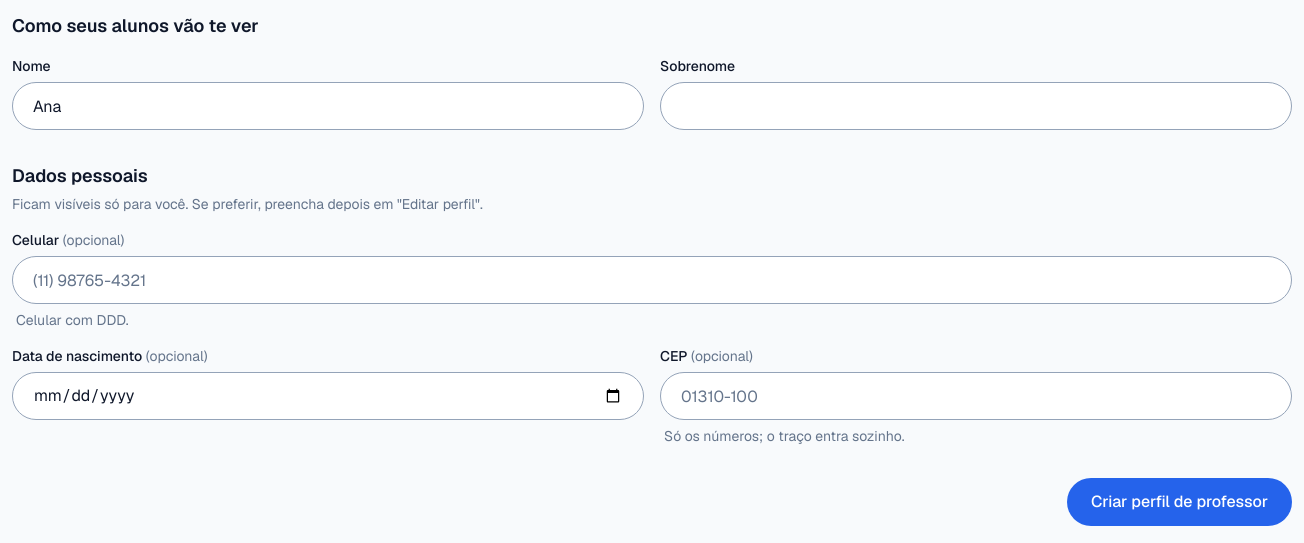
Test: ProfileForm › masks phone and CEP and shows the address found
The image size is (1304, 543).
Type "11987654321" into the field labelled "Celular (opcional)". click: coordinates (652, 280)
box: x1=12 y1=256 x2=1292 y2=304
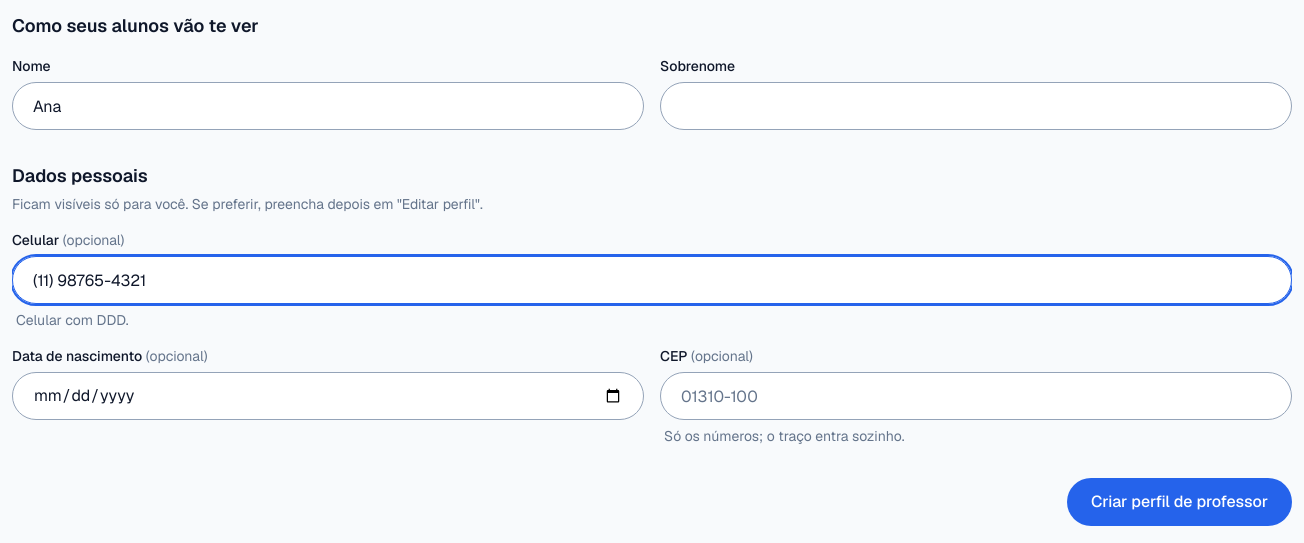
Type "01310100" into the field labelled "CEP (opcional)". click: coordinates (976, 396)
box: x1=660 y1=372 x2=1292 y2=420
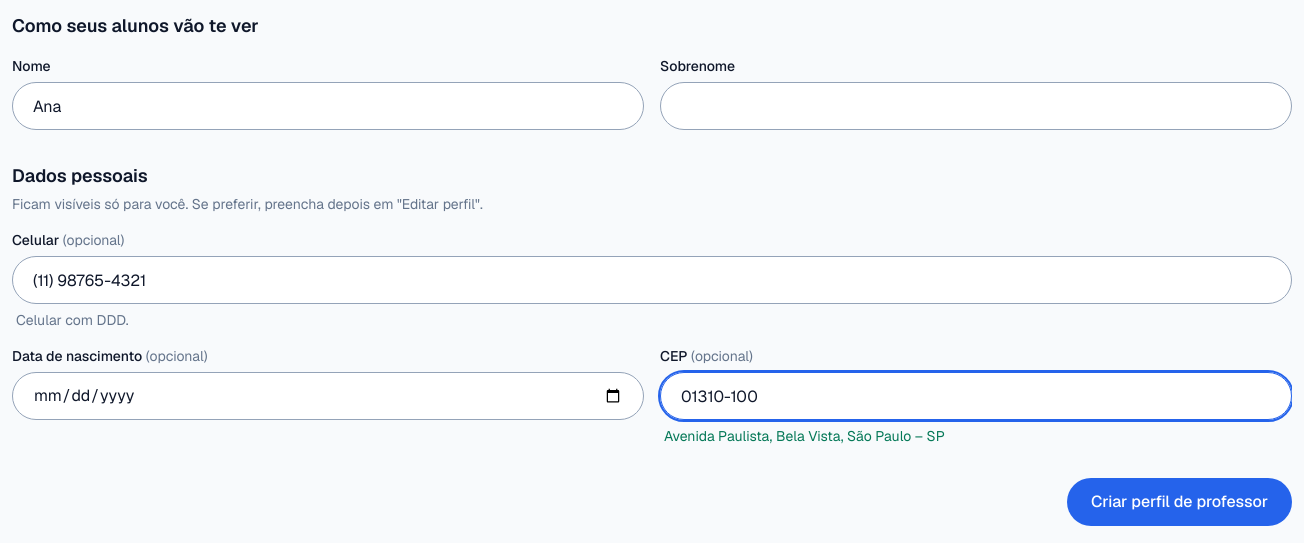
Check: the field labelled "Celular (opcional)" holds "(11) 98765-4321", box x1=12 y1=256 x2=1292 y2=304
Check: the field labelled "CEP (opcional)" holds "01310-100", box x1=660 y1=372 x2=1292 y2=420
Check: the text "Avenida Paulista, Bela Vista, São Paulo – SP" is shown, box x1=664 y1=427 x2=945 y2=445
